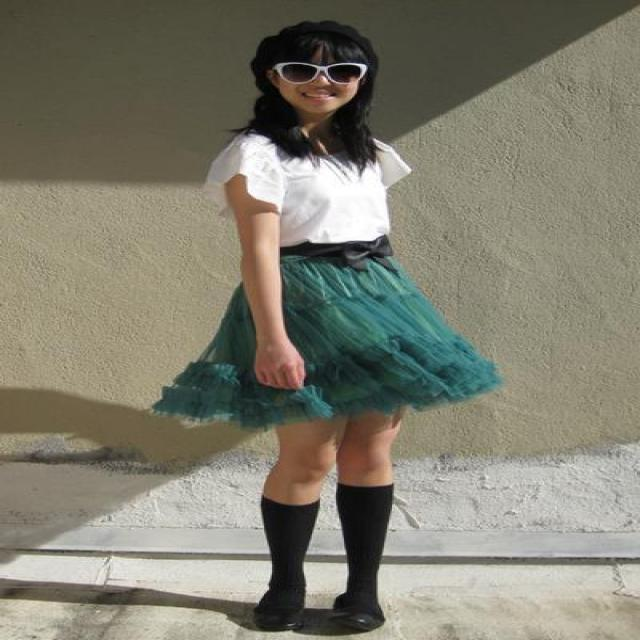shirt: (210, 126, 410, 242)
shoe: (240, 589, 384, 631)
skirt: (154, 235, 499, 432)
sunglass: (330, 60, 376, 86)
